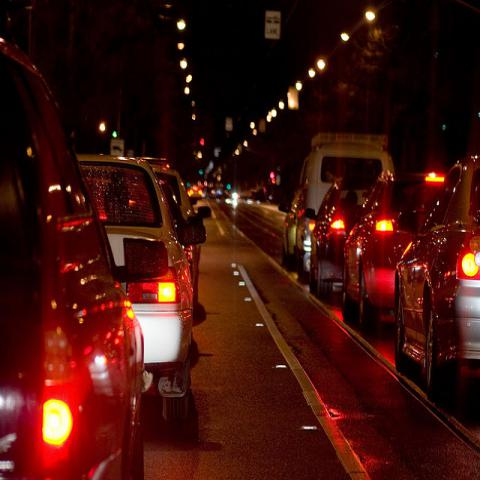car: (2, 45, 144, 479), (80, 155, 194, 432), (392, 156, 480, 402), (341, 171, 448, 338), (151, 163, 212, 308), (308, 178, 378, 300), (282, 192, 297, 253), (187, 186, 202, 199)
